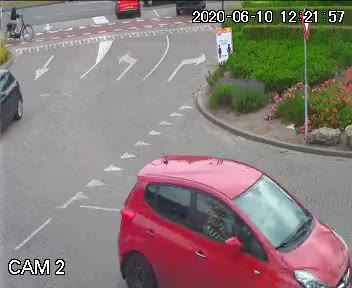car: (122, 150, 348, 288)
